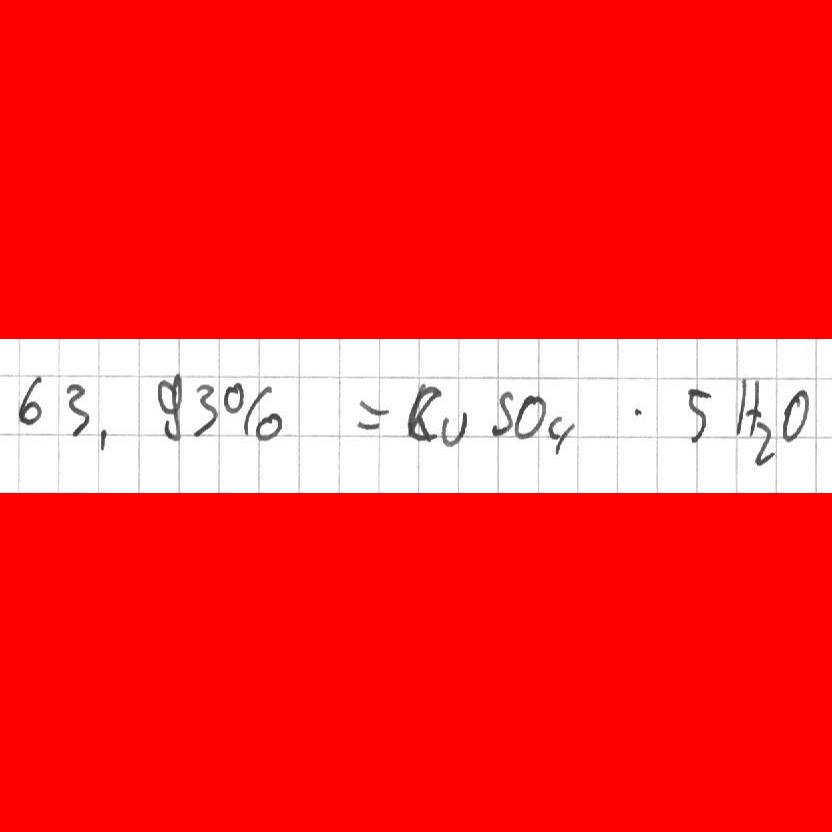Char: (154, 371, 185, 444), (731, 374, 762, 439), (684, 384, 714, 447), (62, 380, 92, 442), (14, 373, 46, 428), (781, 385, 811, 443), (191, 381, 220, 439), (240, 384, 271, 438), (512, 392, 545, 439), (352, 395, 392, 433), (543, 413, 576, 459), (439, 407, 472, 449), (489, 388, 515, 438), (752, 418, 777, 465), (253, 411, 282, 441), (222, 381, 246, 415), (96, 426, 111, 454), (630, 401, 643, 421)
